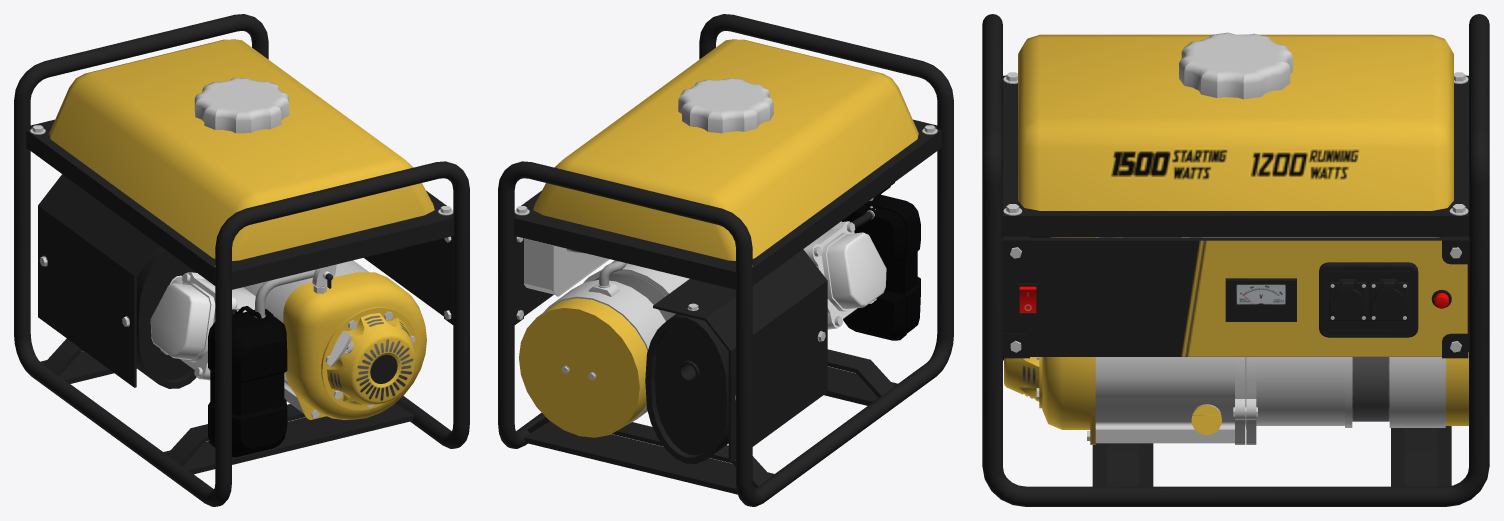
File: generator.glb
The picture shows the model from 3 angles, left to right: view 1: azimuth 30°, elevation 25°; view 2: azimuth 150°, elevation 25°; view 3: azimuth 270°, elevation 25°; orthographic projection. The views are drawn at different scales.
Visible parts, largest first — view 1: Generator; view 2: Generator; view 3: Generator.
Boxes of the visible parts, box(x1,y1,x2,y2) form: Generator: box(14, 14, 469, 506); Generator: box(498, 14, 953, 506); Generator: box(982, 14, 1489, 506).
Size of the model in its own units: 32.88 by 38.26 by 46.04.
Materials: 1 (1 with a texture image).
